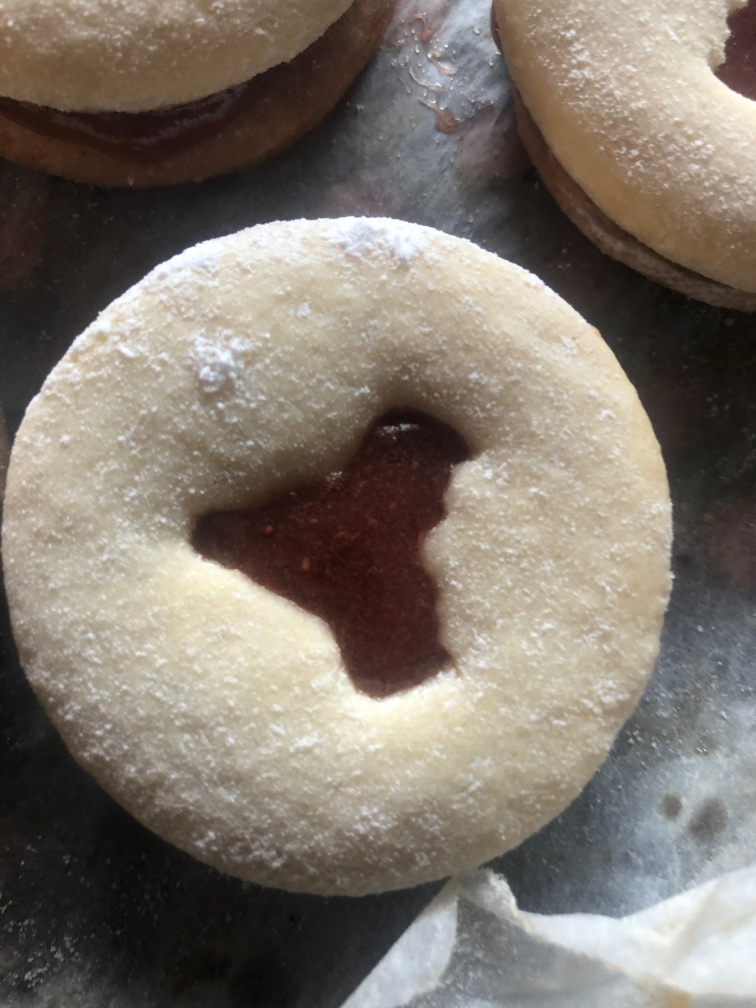christmas shortbread with jam: (5, 207, 673, 904), (490, 1, 755, 310), (1, 1, 401, 198)
